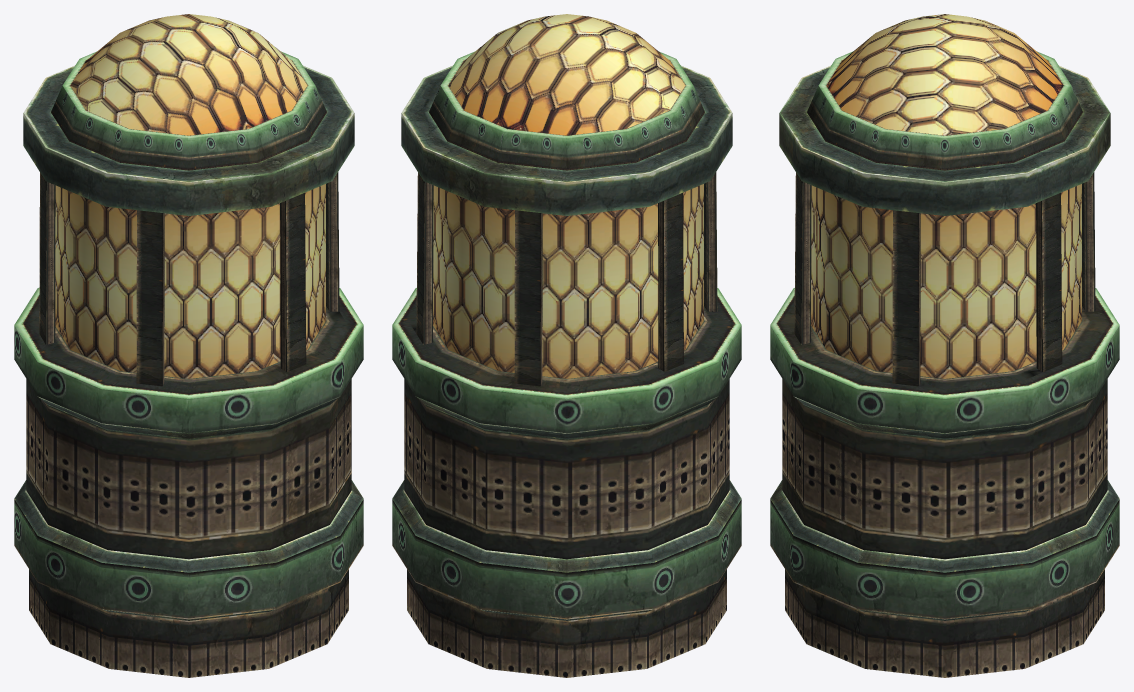
File: w12lig00.obj
The picture shows the model from 3 angles, left to right: view 1: azimuth 30°, elevation 25°; view 2: azimuth 150°, elevation 25°; view 3: azimuth 270°, elevation 25°; orthographic projection.
Parts seen in each view (by area): view 1: polySurface10_polySurface10Shape.001; view 2: polySurface10_polySurface10Shape.001; view 3: polySurface10_polySurface10Shape.001.
Part boxes in pixels (x1,y1,x2,y2): polySurface10_polySurface10Shape.001: (14,14,363,677); polySurface10_polySurface10Shape.001: (392,14,741,677); polySurface10_polySurface10Shape.001: (770,14,1119,677).
Bounding box in the file's own units: 1.74 × 3.2 × 1.74.
Materials: 2 (2 with a texture image).
